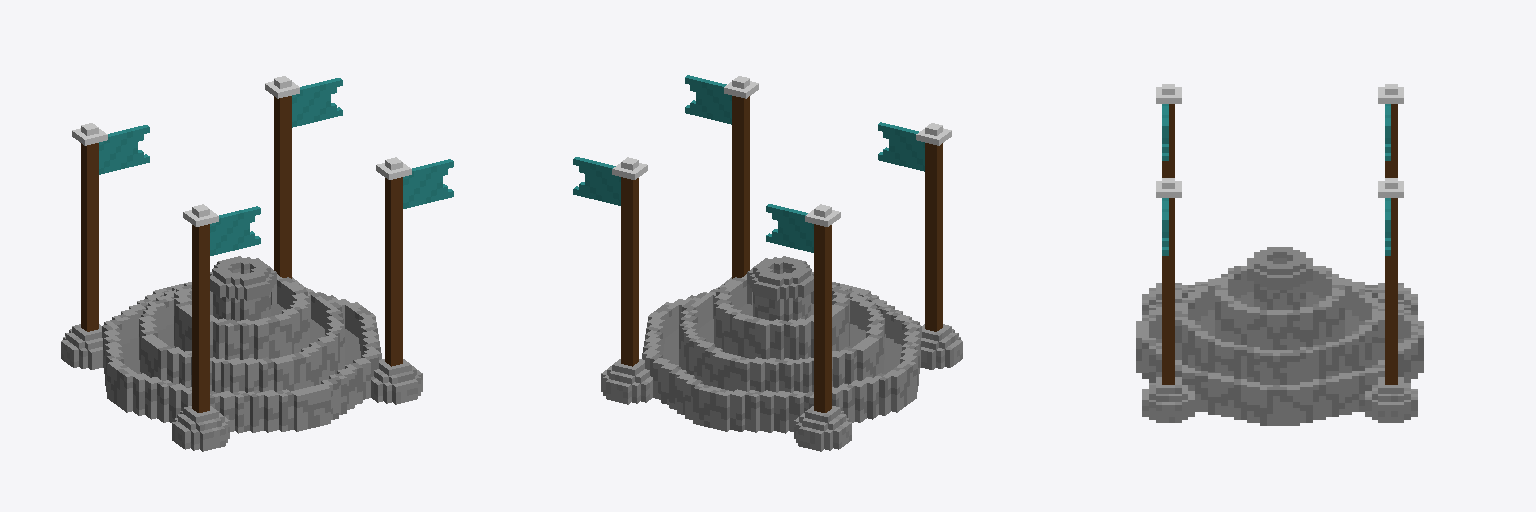
3 views of the same model, side by side, from view 1: azimuth 30°, elevation 25°; view 2: azimuth 150°, elevation 25°; view 3: azimuth 270°, elevation 25° (orthographic).
Visible parts, largest first — view 1: object 1; view 2: object 1; view 3: object 1.
Boxes of the visible parts, box(x1,y1,x2,y2) form: object 1: box(61, 76, 453, 451); object 1: box(573, 75, 962, 451); object 1: box(1136, 84, 1423, 425).
Bounding box in the file's own units: 4.9 × 3.9 × 4.4.
Materials: 1 (1 with a texture image).